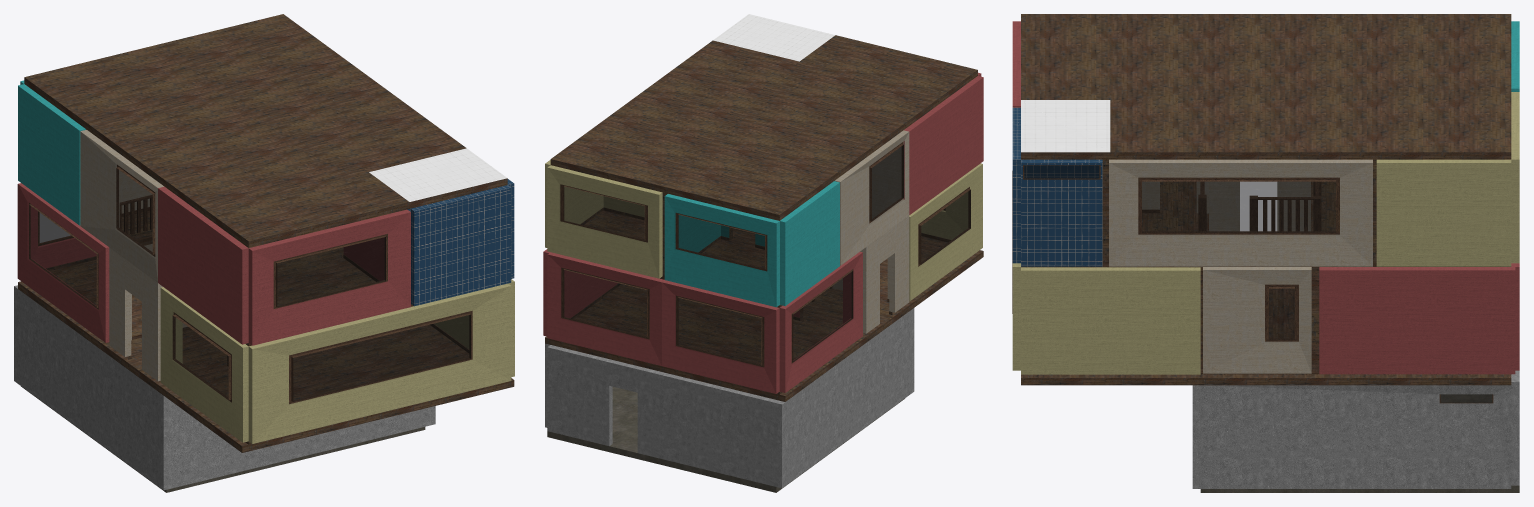
The model's file is CASA DEFINITIVAs.fbx.
3 renders of one model, left to right at view 1: azimuth 30°, elevation 25°; view 2: azimuth 150°, elevation 25°; view 3: azimuth 270°, elevation 25°, orthographic. The views are drawn at different scales.
Parts seen in each view (by area): view 1: Floor.3F, Wall_1F_Yell.003, Wall_2F_Red.002, Floor.1F, Wall_B1.001, Wall_2F_Bathroom.001, Wall_2F_Red.001, Wall_1F_Red.002, Wall_1F_Yell.002, Wall_B1.004, Wall_2F_Corridor.002, Wall_2F_Blue.001 (+7 smaller); view 2: Floor.3F, Wall_B1.003, Floor.1F, Wall_B1.001, Wall_1F_Red.003, Wall_2F_Yell.001, Wall_2F_Blue.002, Wall_1F_Red.004, Wall_1F_Red.002, Wall_2F_Red.001, Wall_1F_Yell.002, Wall_2F_Corridor.002 (+9 smaller); view 3: Floor.3F, Wall_B1.002, Wall_2F_Corridor.001, Wall_1F_Red.001, Wall_1F_Yell.001, Wall_2F_Yell.002, Wall_2F_Corridor.003, Wall_2F_Bathroom.002, Floor.1F, House.Frame, Floor.2F, Floor.B1 (+10 smaller).
Part boxes in pixels (x1,y1,x2,y2): Floor.3F: (24,14,507,247); Wall_1F_Yell.003: (248,283,511,443); Wall_2F_Red.002: (248,209,410,345); Floor.1F: (18,260,514,452); Wall_B1.001: (18,289,159,487); Wall_2F_Bathroom.001: (410,185,511,306); Wall_2F_Red.001: (158,186,248,344); Wall_1F_Red.002: (17,183,109,342); Wall_1F_Yell.002: (160,287,248,442); Wall_B1.004: (160,393,435,490); Wall_2F_Corridor.002: (80,129,163,282); Wall_2F_Blue.001: (18,84,85,225); Floor.3F: (550,14,977,220); Wall_B1.003: (547,345,785,488); Floor.1F: (545,236,983,401); Wall_B1.001: (785,310,910,485); Wall_1F_Red.003: (662,280,779,393); Wall_2F_Yell.001: (547,165,662,278); Wall_2F_Blue.002: (664,194,779,307); Wall_1F_Red.004: (547,252,664,365); Wall_1F_Red.002: (779,251,862,392); Wall_2F_Red.001: (903,76,983,214); Wall_1F_Yell.002: (909,163,982,300); Wall_2F_Corridor.002: (835,130,909,265); Floor.3F: (1021,14,1511,159); Wall_B1.002: (1200,385,1511,488); Wall_2F_Corridor.001: (1109,159,1372,266); Wall_1F_Red.001: (1319,267,1515,374); Wall_1F_Yell.001: (1021,267,1200,374); Wall_2F_Yell.002: (1376,159,1511,266); Wall_2F_Corridor.003: (1203,267,1311,373); Wall_2F_Bathroom.002: (1021,159,1102,266); Floor.1F: (1021,288,1511,385); House.Frame: (1024,159,1376,374); Floor.2F: (1021,181,1510,270); Floor.B1: (1200,394,1519,492).
Bounding box in the file's own units: 842 × 920 × 1241.
Materials: 13 (13 with a texture image).
